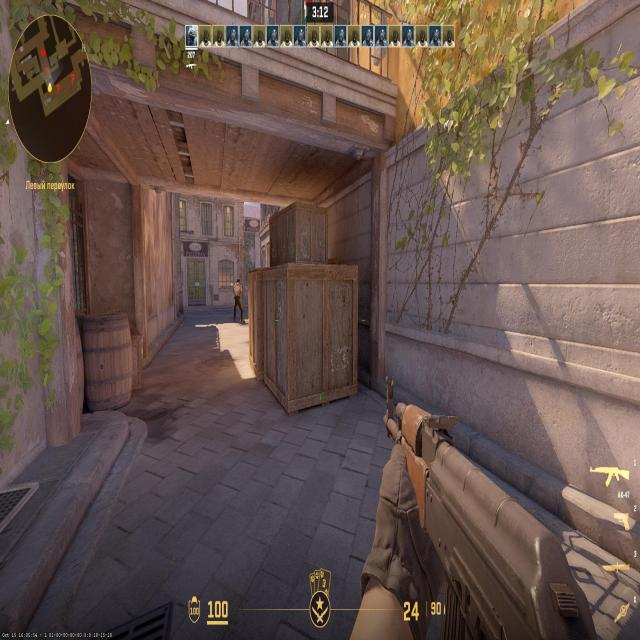T: (235, 278, 241, 320)
T_heat: (237, 282, 239, 289)
